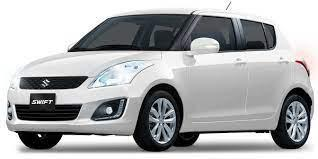Hatchback: (3, 5, 316, 153)
